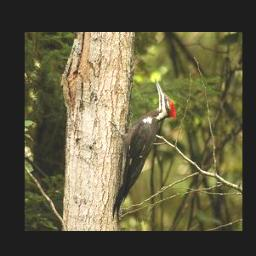Woodpecker: (105, 77, 177, 222)
